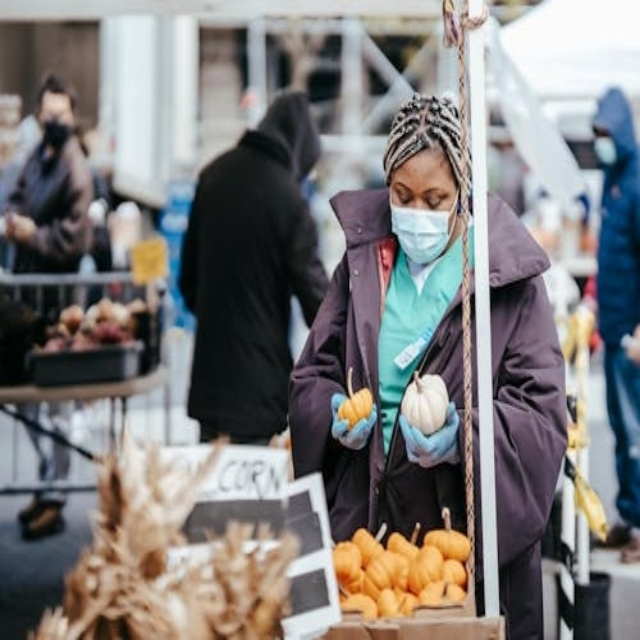Guantes: (397, 384, 461, 473), (328, 379, 383, 446)
Mascara: (390, 187, 459, 265), (41, 118, 69, 148), (593, 136, 618, 165)
Sin_gafas: (391, 179, 457, 212)
Sin_guantes: (4, 212, 34, 239)
